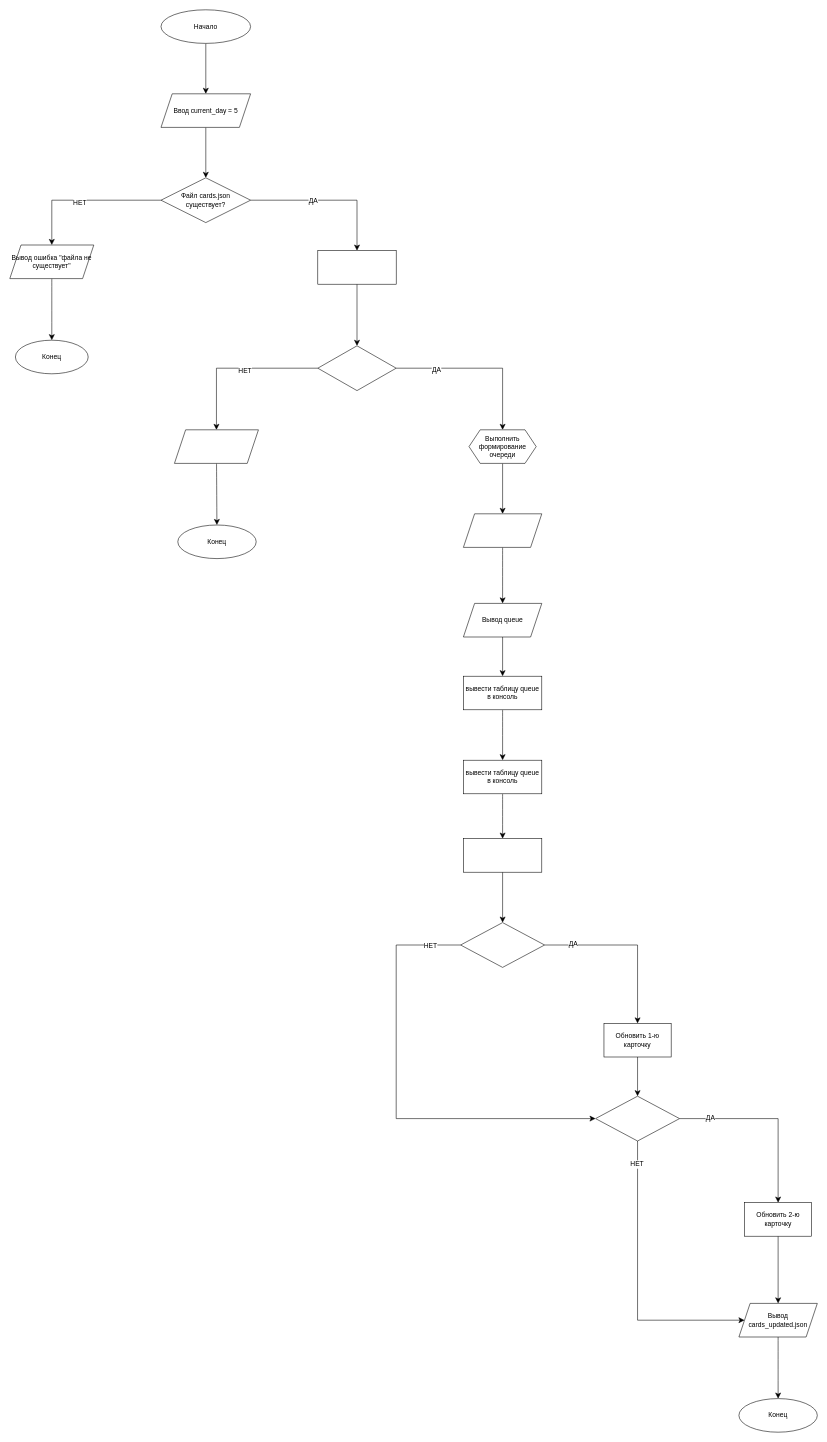
Some shapes in this 827 by 1442 pixel diagram are drawn without their labels. The shapes that lost their labels are listed below. From the top down, each one's centre as x and y in pixels, then its label:
point (356, 267): Загрузить cards из JSON
point (356, 368): JSON корректен?
point (216, 446): Вывод ошибка "файл некорректен"
point (502, 530): Ввод cards, current_day
point (502, 855): Создать updated_cards из cards
point (502, 944): В очереди есть >= 1 карточка?
point (637, 1118): В очереди есть >= 2 карточки?
